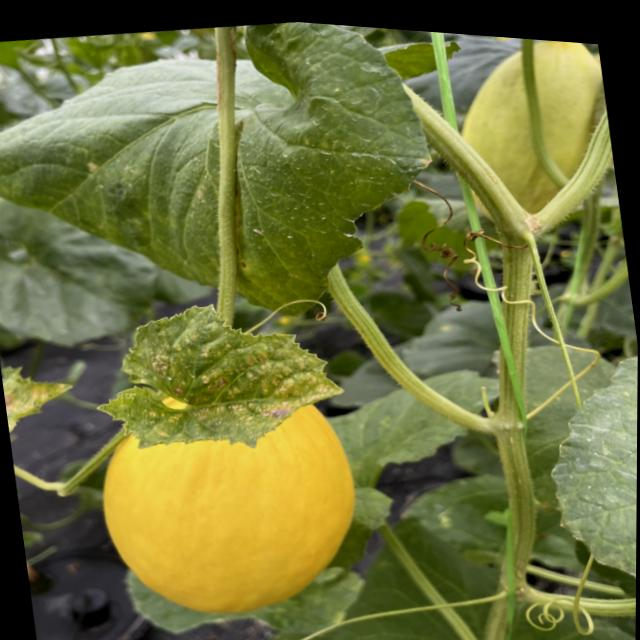SLCV: (78, 277, 354, 475)
downy mildew: (0, 0, 458, 362)
